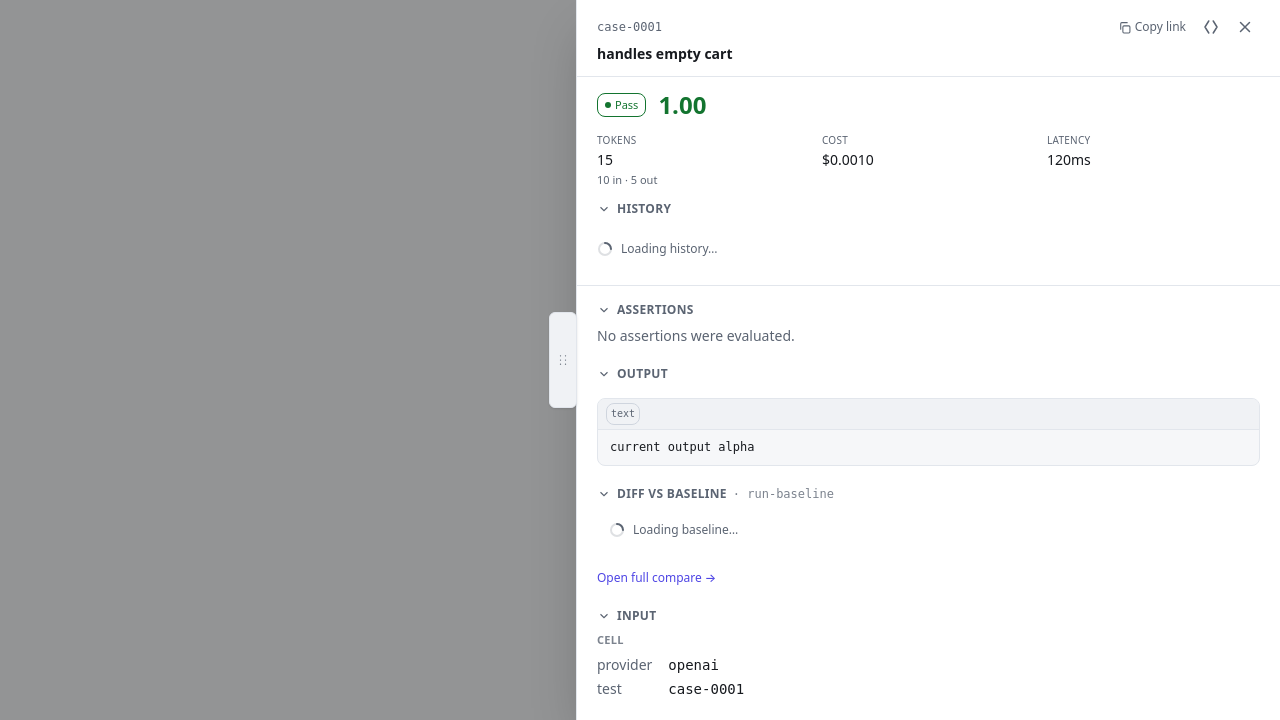
it: CaseDrawer baseline-diff section › fetches the baseline immediately (expanded by default); collapsing disables it
The width and height of the screenshot is (1280, 720).
Expected: the text "Loading baseline…" is shown, [609,521,738,538]
Step 1. Click the button "Diff vs baseline · run-baseline" → (672, 494), box [597,486,1260,502]
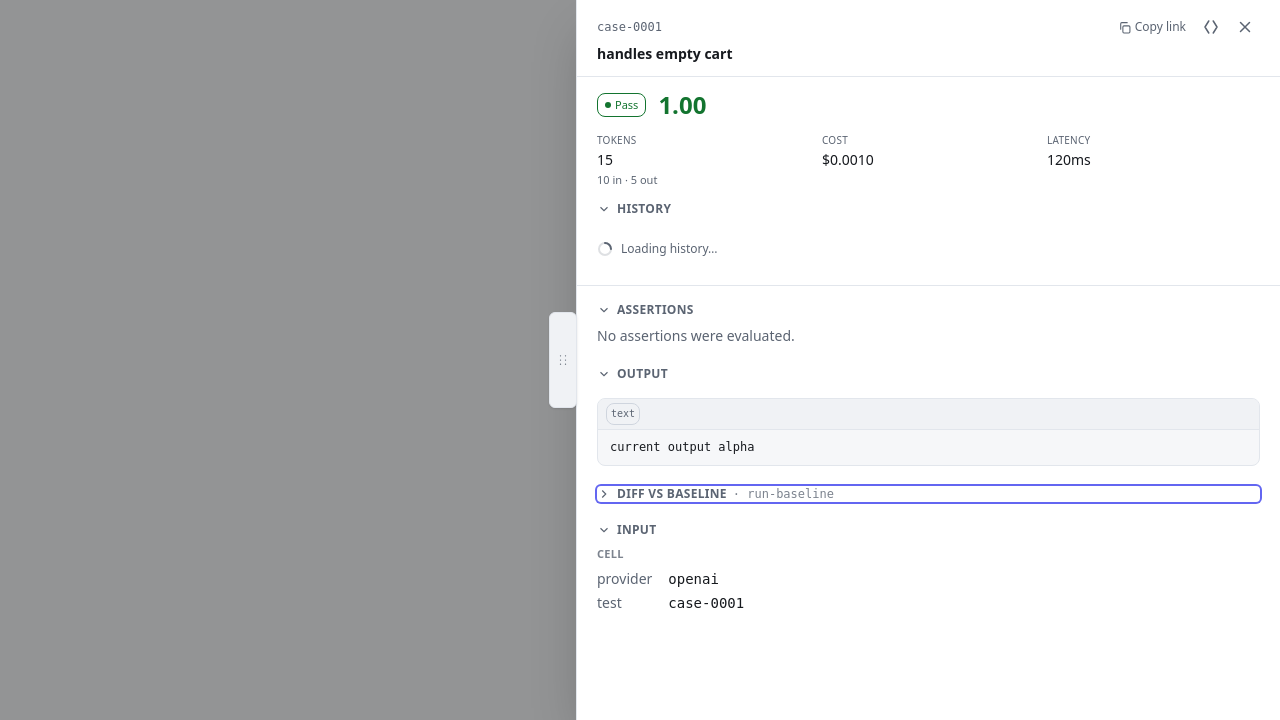
Now the text "Loading baseline…" is gone
